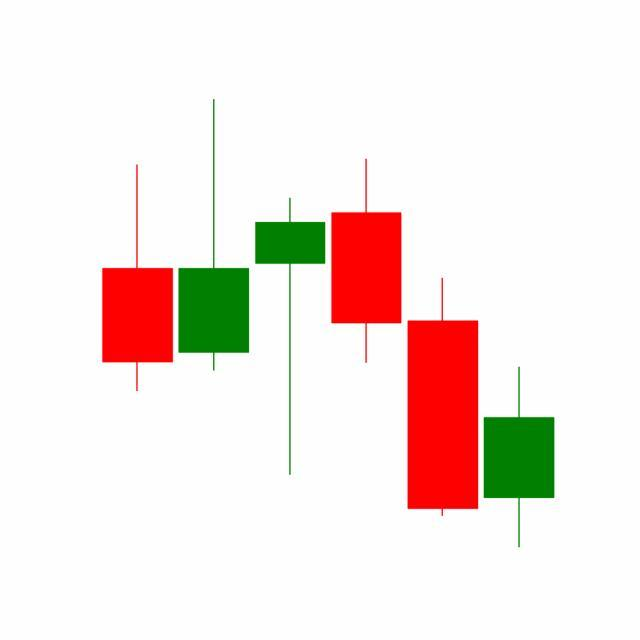Three Outside Up-Down: (252, 155, 482, 520)
